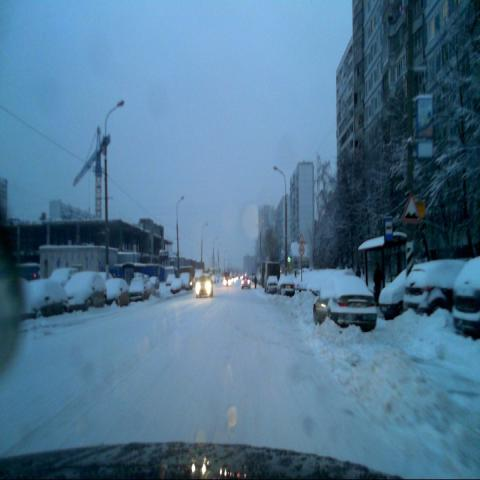1_16: (402, 192, 420, 220)
